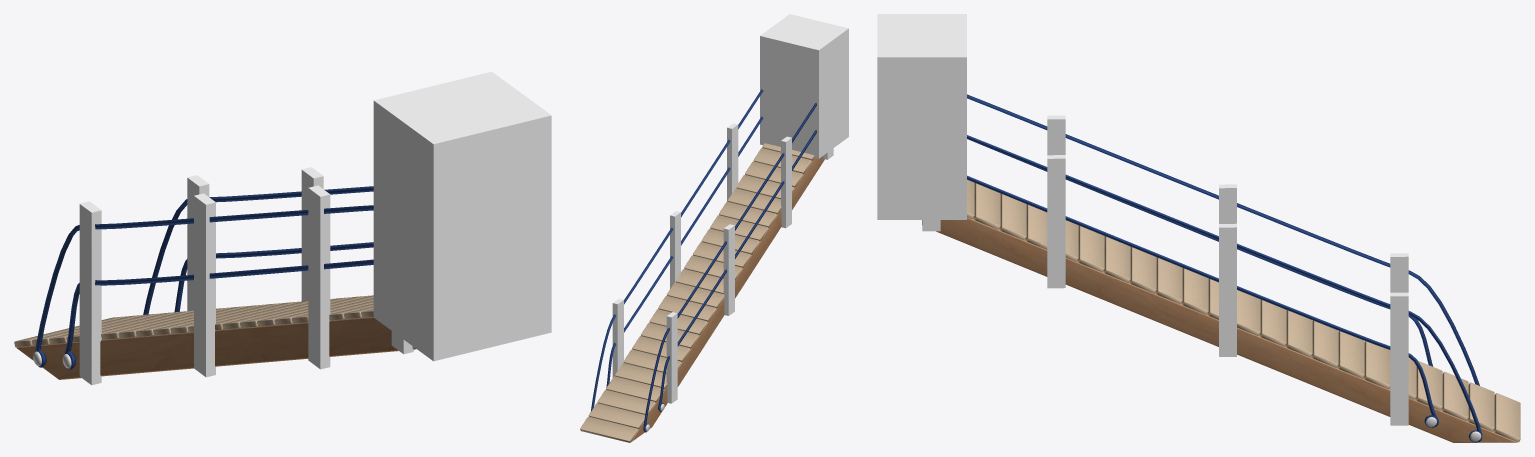
File: P-GP-12.ccd1595b.glb
3 views of the same model, side by side, from view 1: azimuth 30°, elevation 25°; view 2: azimuth 150°, elevation 25°; view 3: azimuth 270°, elevation 25° (orthographic). The views are drawn at different scales.
Visible parts, largest first — view 1: joint,0,6, Plane001, Plane052, Plane052_1, Plane052.001; view 2: Plane052.001, joint,0,6, Plane001, Plane052_1, Plane052; view 3: Plane052.001, joint,0,6, Plane052, Plane001, Plane052_1.
Part boxes in pixels (left/top/right/bottom): joint,0,6: left=373, top=71, right=551, bottom=361; Plane001: left=79, top=167, right=330, bottom=385; Plane052: left=16, top=317, right=415, bottom=379; Plane052_1: left=35, top=186, right=373, bottom=369; Plane052.001: left=14, top=295, right=373, bottom=347; Plane052.001: left=580, top=143, right=814, bottom=442; joint,0,6: left=760, top=14, right=848, bottom=158; Plane001: left=612, top=123, right=791, bottom=403; Plane052_1: left=591, top=89, right=816, bottom=432; Plane052: left=631, top=156, right=824, bottom=441; Plane052.001: left=967, top=179, right=1520, bottom=442; joint,0,6: left=877, top=14, right=966, bottom=219; Plane052: left=922, top=217, right=1517, bottom=442; Plane001: left=1047, top=115, right=1408, bottom=425; Plane052_1: left=967, top=94, right=1482, bottom=442.
Bounding box in the file's own units: 0.57 × 2.39 × 3.58.
6 materials, 3 textured.
